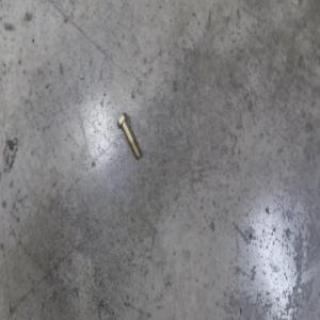Bolttrack_idkeyframe: (119, 112, 143, 161)
